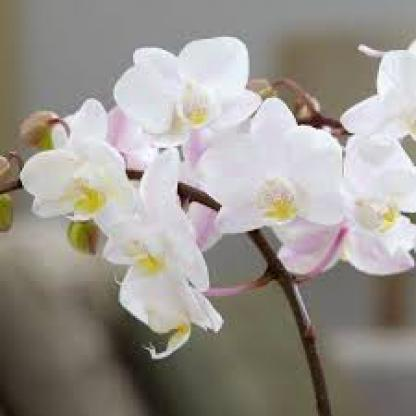ANGGREK: (3, 29, 413, 376)
